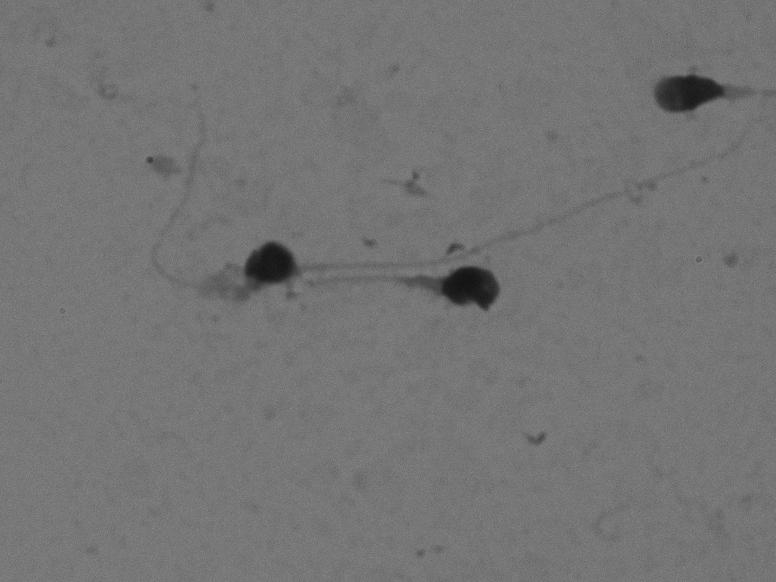Abnormal: (104, 60, 532, 338), (235, 170, 651, 307), (623, 33, 770, 176)
